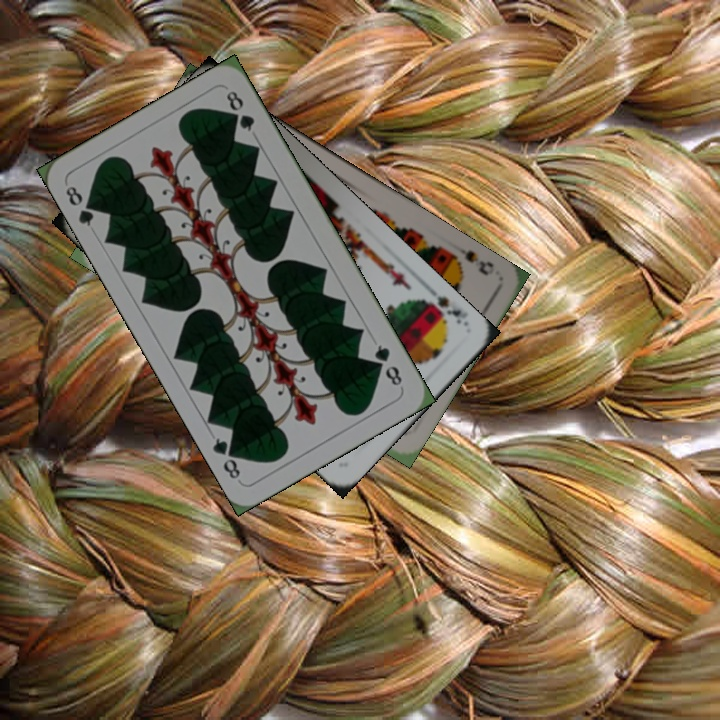G8: (61, 182, 101, 229), (370, 340, 405, 389)
S9: (444, 245, 496, 279)
SK: (415, 283, 471, 329)
